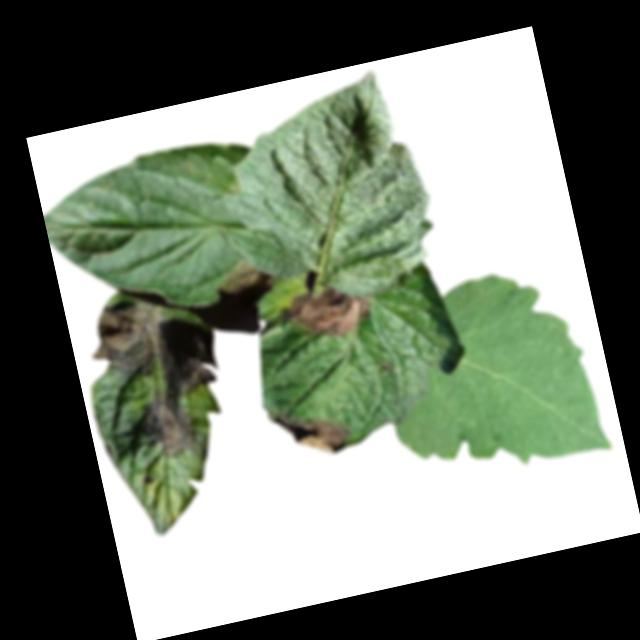Late_blight: (80, 282, 224, 411), (274, 277, 376, 351), (133, 388, 215, 472), (268, 398, 355, 465), (214, 253, 273, 298), (377, 356, 399, 373)
